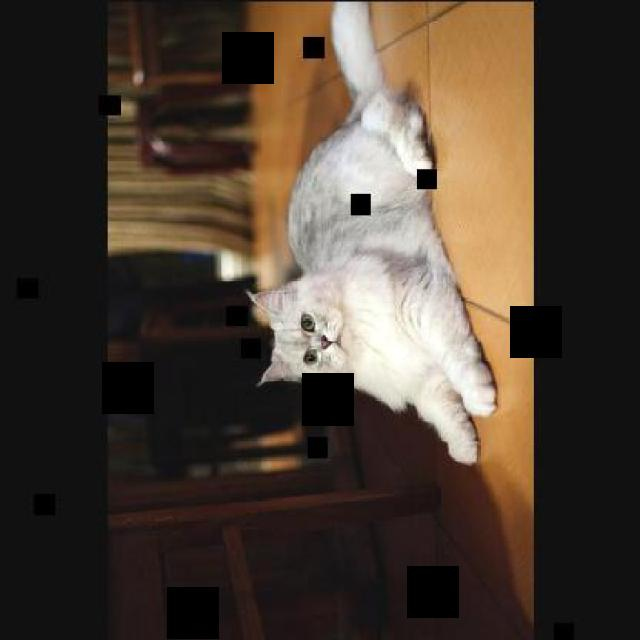unauthorized: (243, 0, 499, 466)
